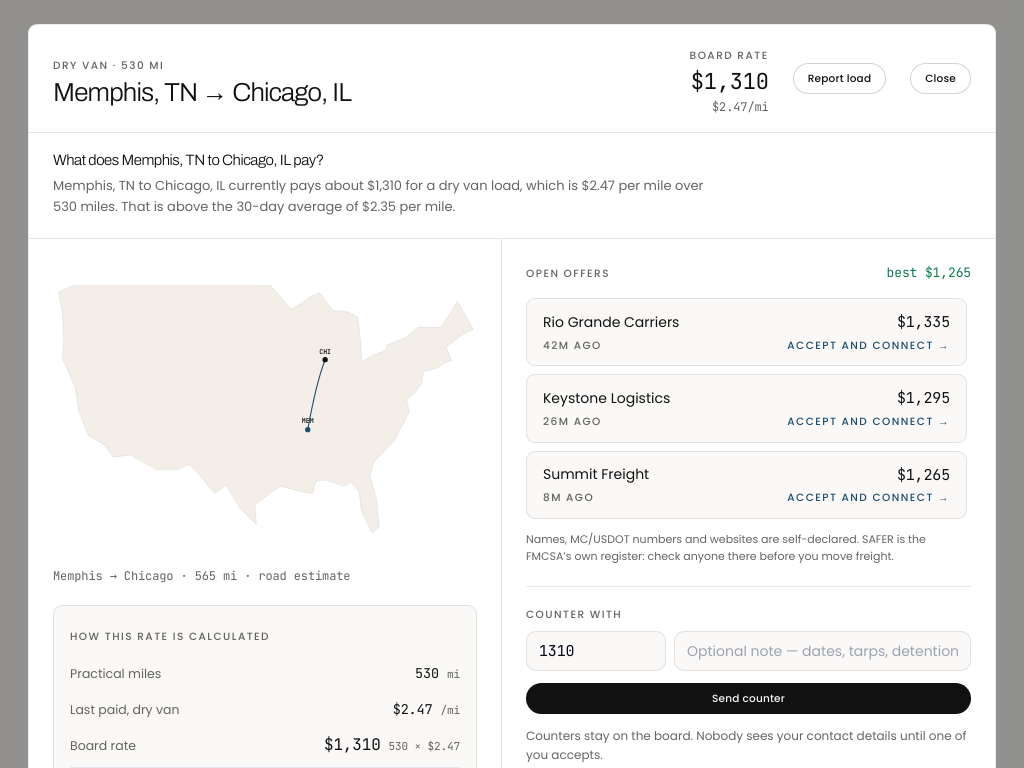
Test: LaneDetail › allows accepting bids and reveals contact details when signed in
# Clicking accept reveals connection details
Click the button "Accept and connect →" in the row of "42m ago": (869, 346) [787,338,950,353]
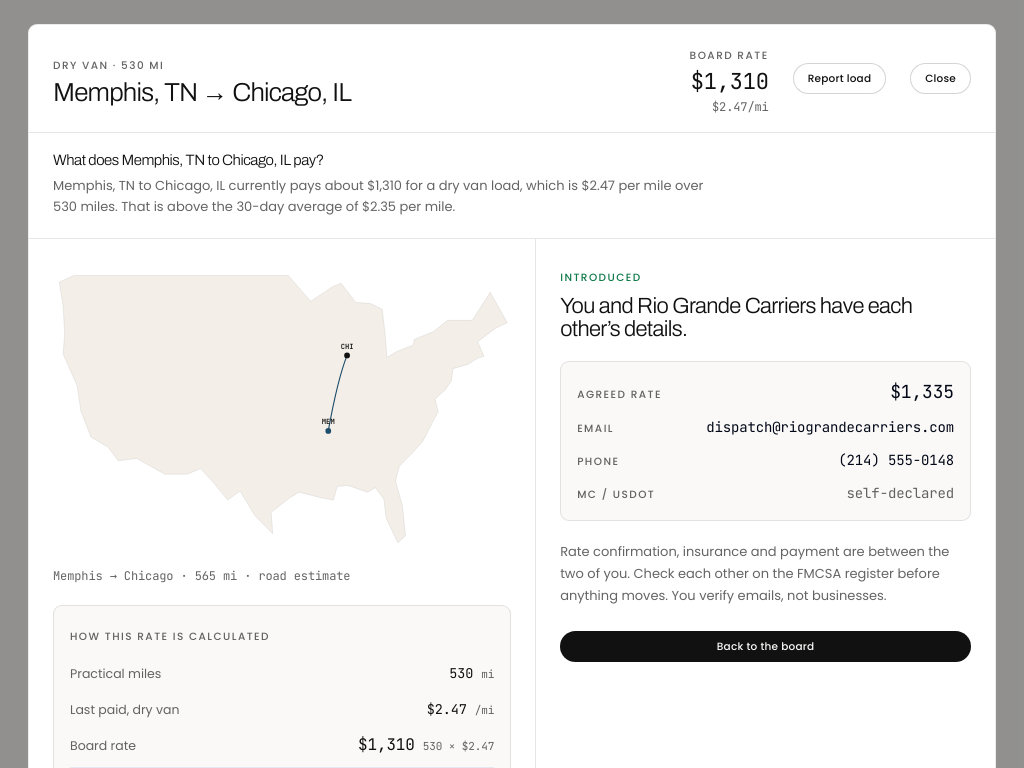
Now the text "Introduced" is shown, box [560,270,642,285]
Now the heading "You and Rio Grande Carriers have each other’s details." is shown, box [560,295,971,341]
Now the text "dispatch@riograndecarriers.com" is shown, box [706,417,954,438]
